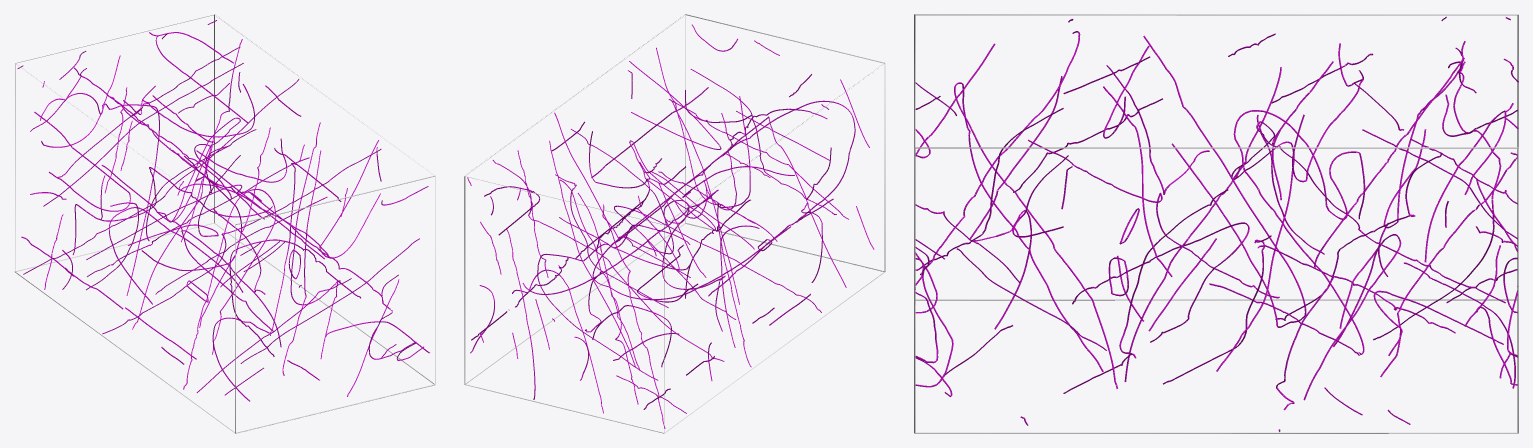
3 renders of one model, left to right at view 1: azimuth 30°, elevation 25°; view 2: azimuth 150°, elevation 25°; view 3: azimuth 270°, elevation 25°, orthographic. The views are drawn at different scales.
Visible parts, largest first — view 1: Shape_IndexedLineSet.001, Shape_IndexedLineSet; view 2: Shape_IndexedLineSet.001, Shape_IndexedLineSet; view 3: Shape_IndexedLineSet.001, Shape_IndexedLineSet.
Part boxes in pixels (left/top/right/bottom): Shape_IndexedLineSet.001: left=17, top=20, right=429, bottom=401; Shape_IndexedLineSet: left=14, top=14, right=435, bottom=433; Shape_IndexedLineSet.001: left=467, top=24, right=874, bottom=428; Shape_IndexedLineSet: left=464, top=14, right=885, bottom=433; Shape_IndexedLineSet.001: left=915, top=16, right=1518, bottom=431; Shape_IndexedLineSet: left=914, top=14, right=1518, bottom=433.
Size of the model in its own units: 237 by 237 by 453.
